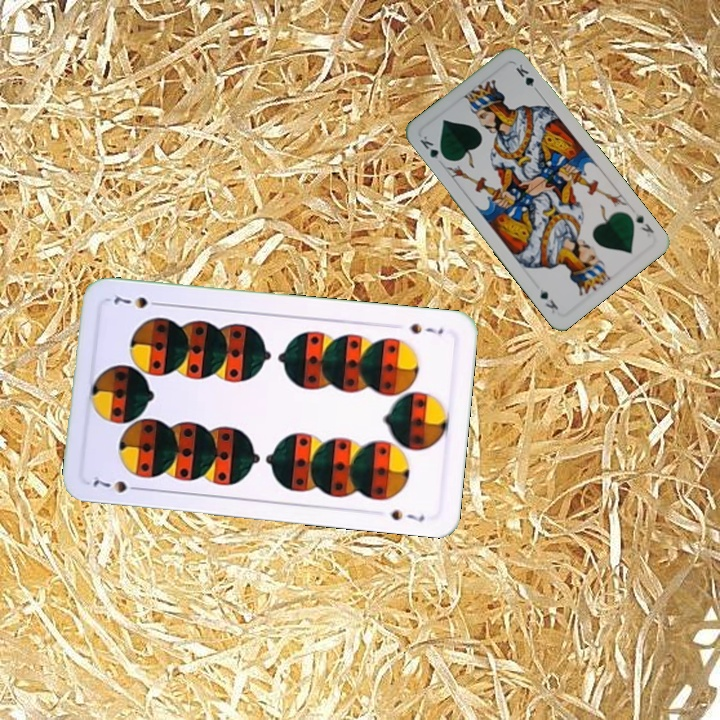GK: (416, 132, 449, 163), (628, 206, 657, 240)
S7: (89, 472, 145, 496), (405, 319, 446, 337)
